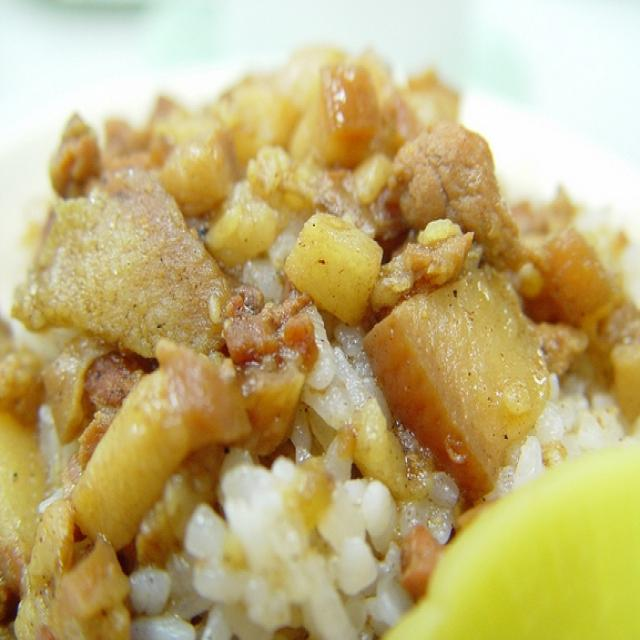猪肉菜式: (31, 63, 568, 612)
